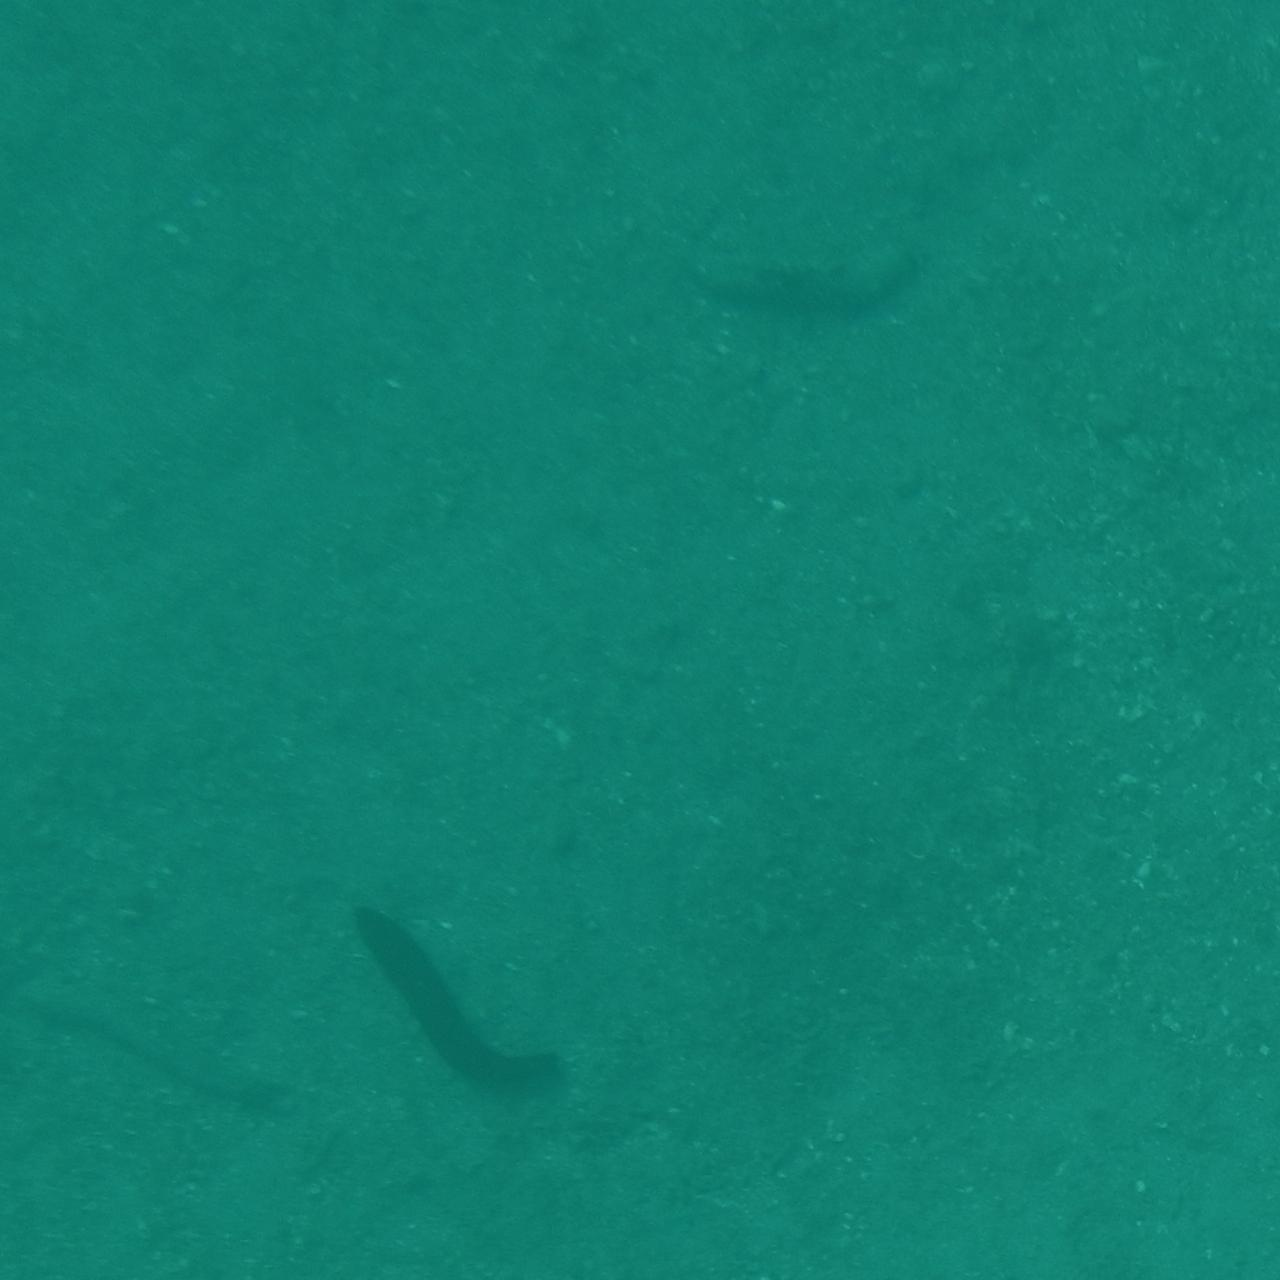Holothuria tubulosa: (340, 906, 599, 1126), (661, 212, 959, 315)
